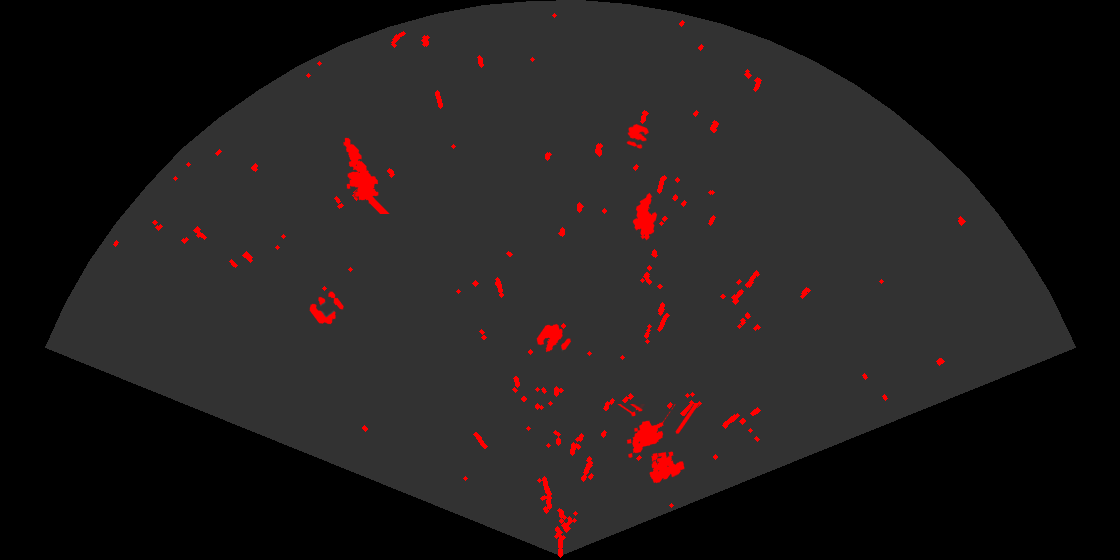AUV: (631, 191, 659, 242)
ball: (308, 290, 345, 326), (535, 322, 573, 354), (625, 122, 651, 150)
cage: (616, 404, 700, 485)
frogman: (342, 136, 391, 214)
